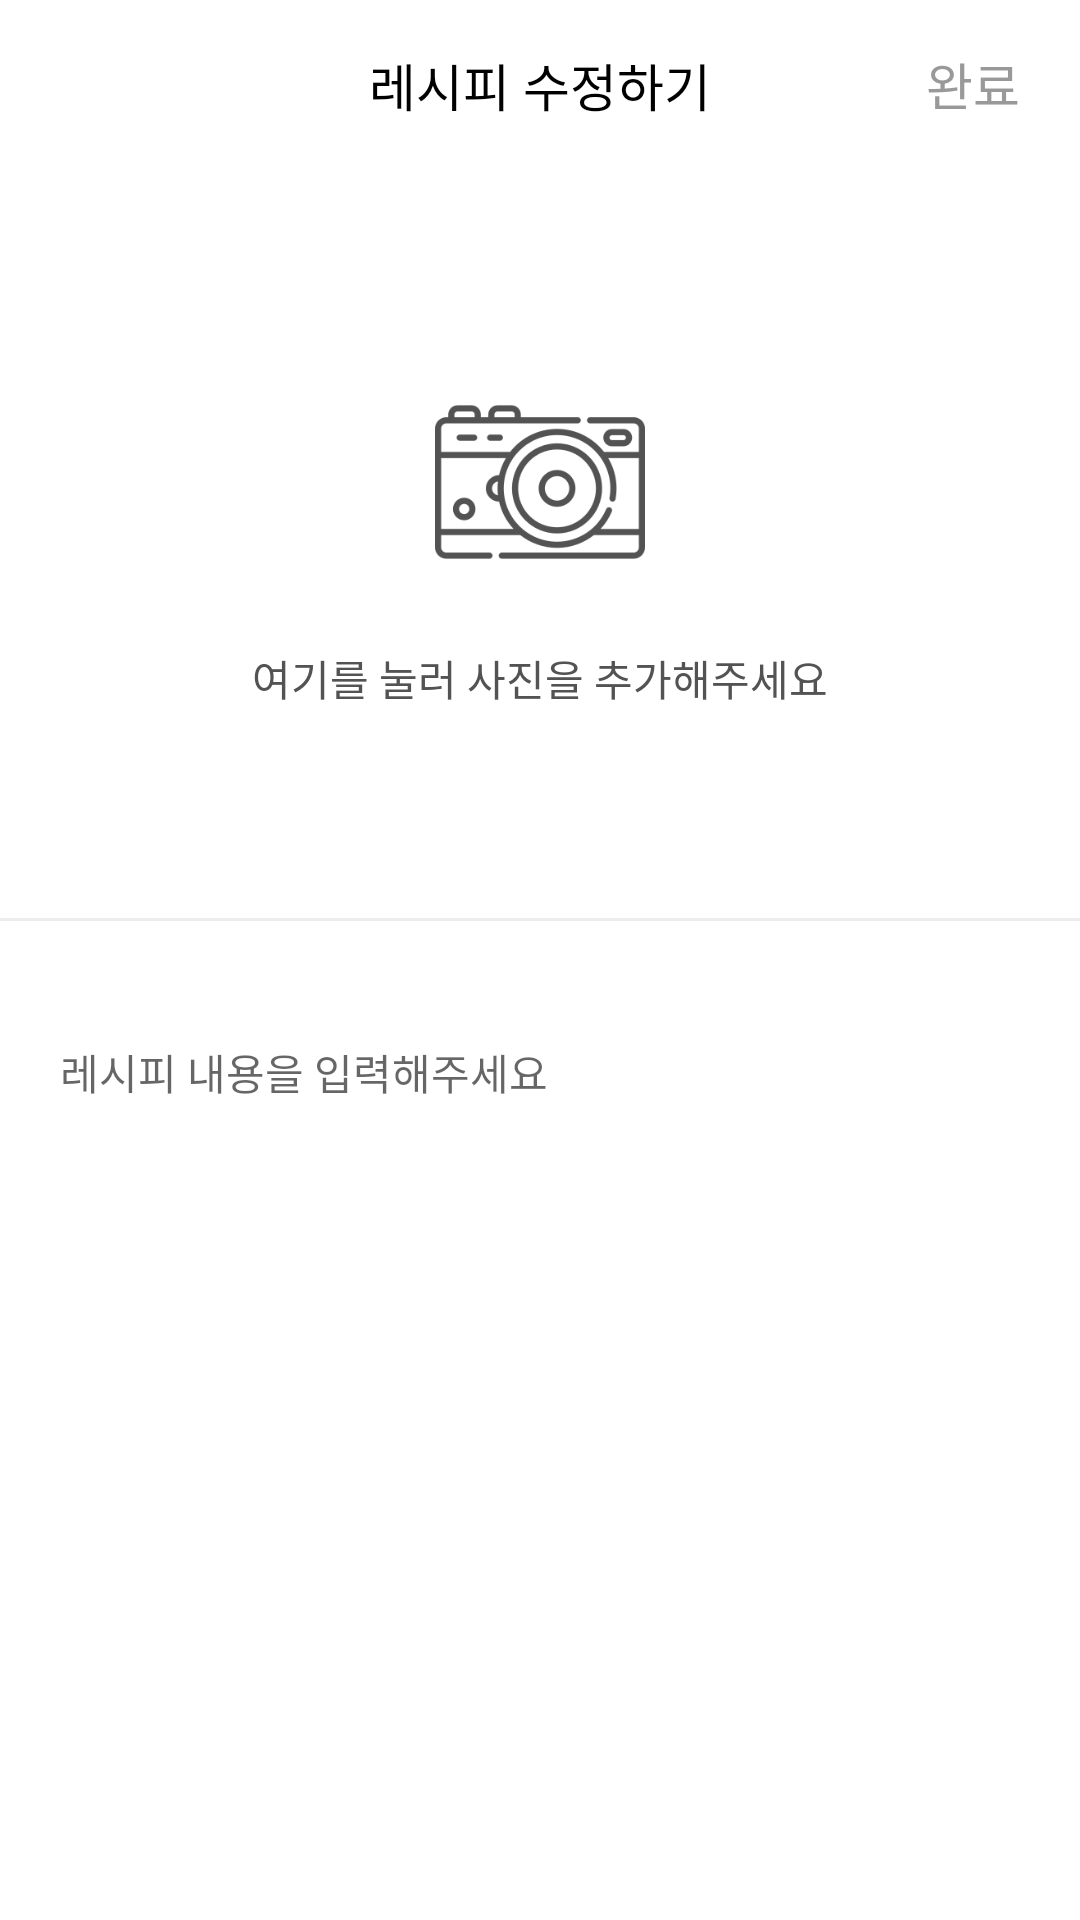

Locate icon controls on the screen. Image size 1080w x 1920h, boxes as detection(x1, y1, x2, y2).
camera: detection(435, 405, 645, 559)
